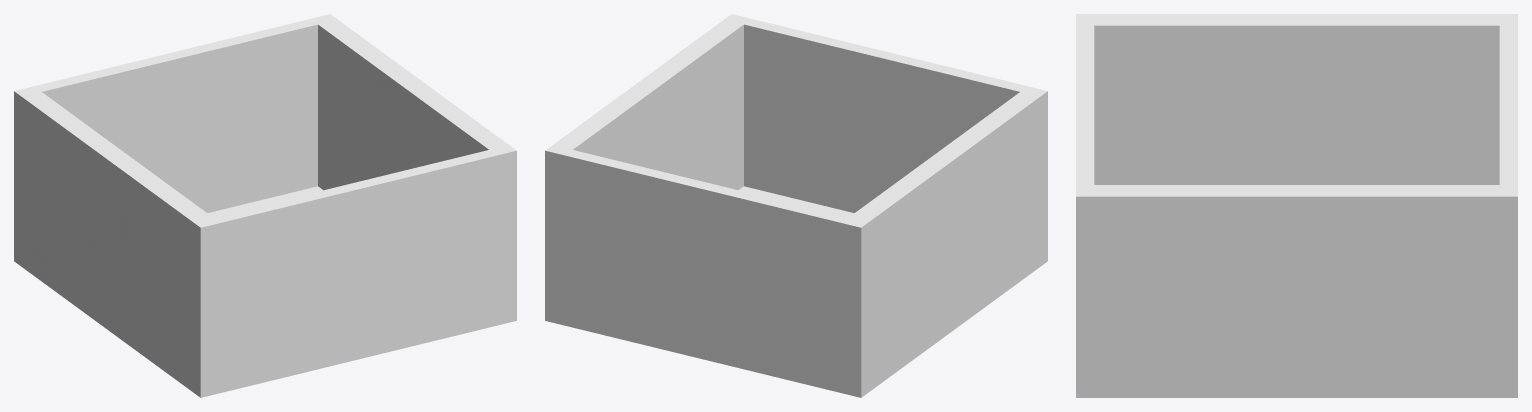
The model's file is freezer drawer.fbx.
3 views of the same model, side by side, from view 1: azimuth 30°, elevation 25°; view 2: azimuth 150°, elevation 25°; view 3: azimuth 270°, elevation 25° (orthographic). The views are drawn at different scales.
Parts seen in each view (by area): view 1: freezer_drawer1; view 2: freezer_drawer1; view 3: freezer_drawer1.
Part boxes in pixels (box(x1,y1,x2,y2)): freezer_drawer1: box(14, 14, 516, 397); freezer_drawer1: box(545, 14, 1047, 397); freezer_drawer1: box(1076, 14, 1517, 397).
Bounding box in the file's own units: 127 × 65.33 × 130.
Materials: 1 (1 with a texture image).
